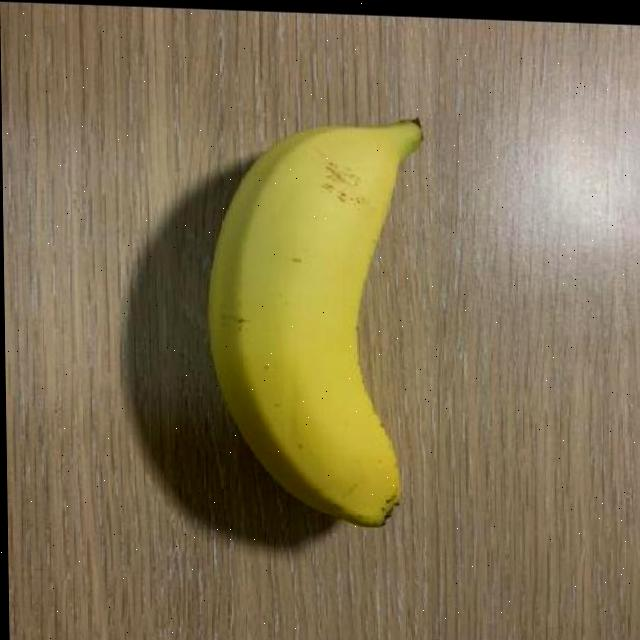banana: (204, 108, 436, 530)
